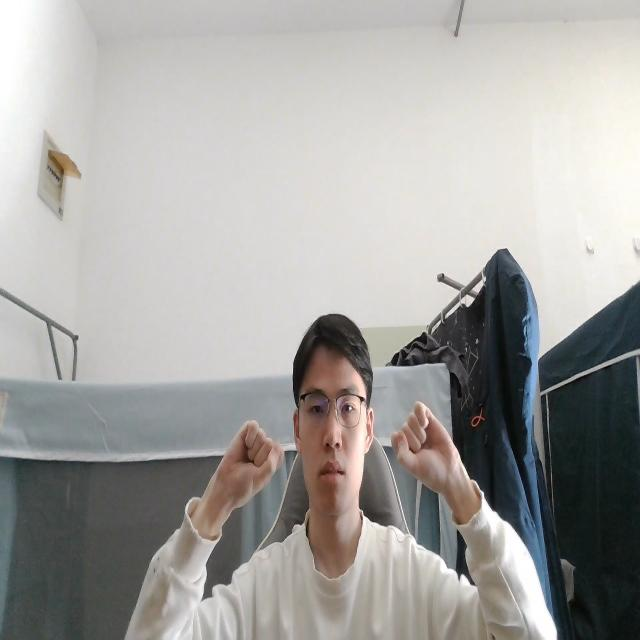ten: (388, 398, 473, 506), (203, 417, 285, 521)
